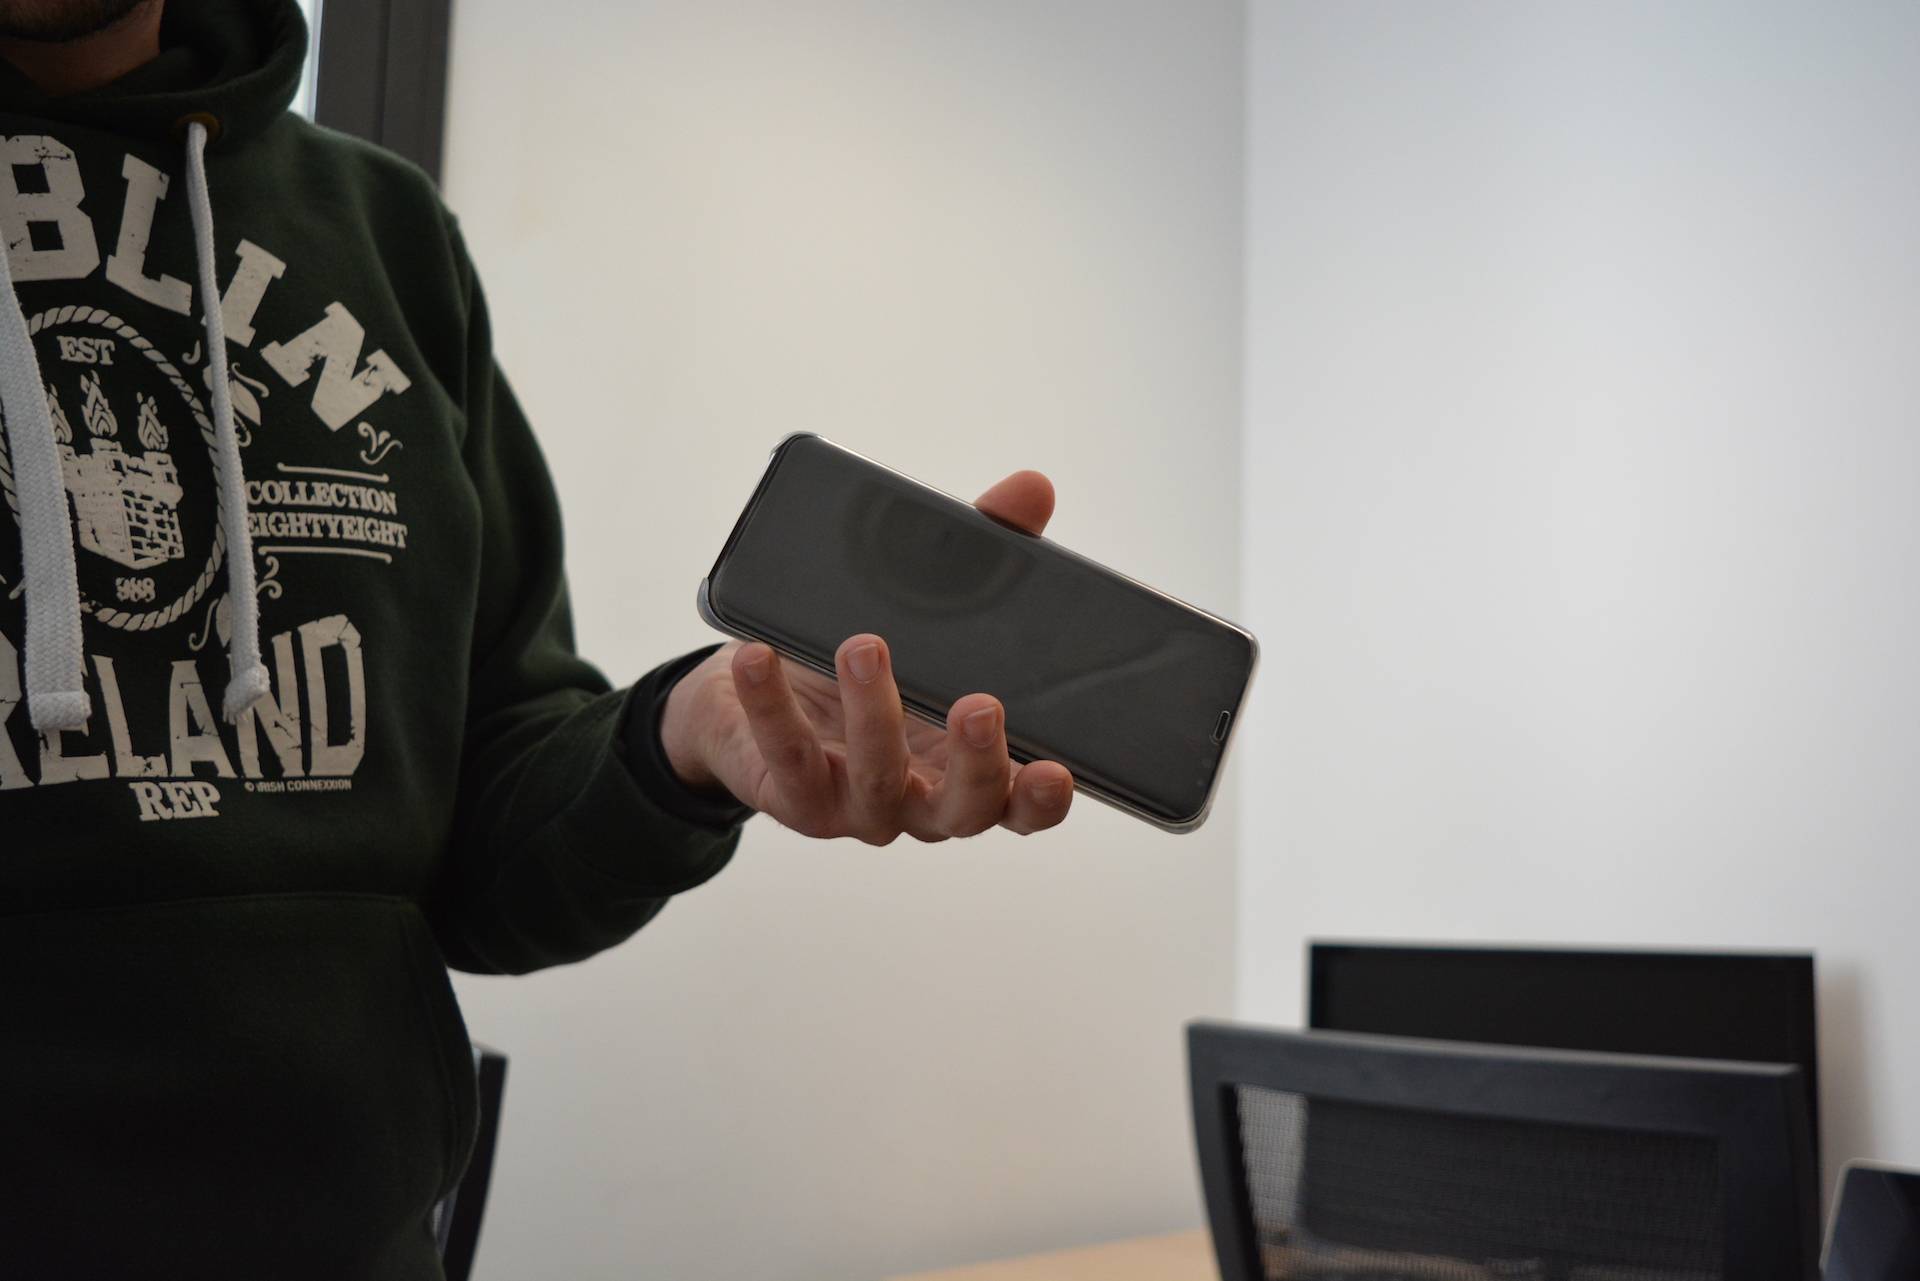smartphone: (692, 425, 1267, 836)
